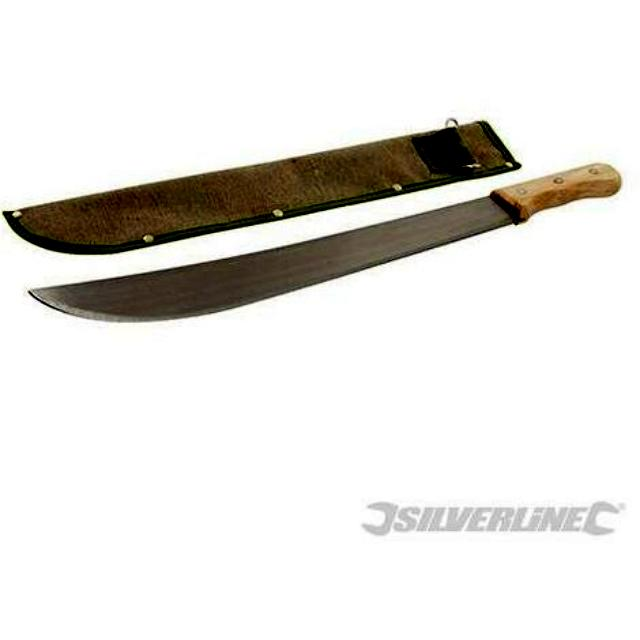long knife: (0, 187, 632, 323)
